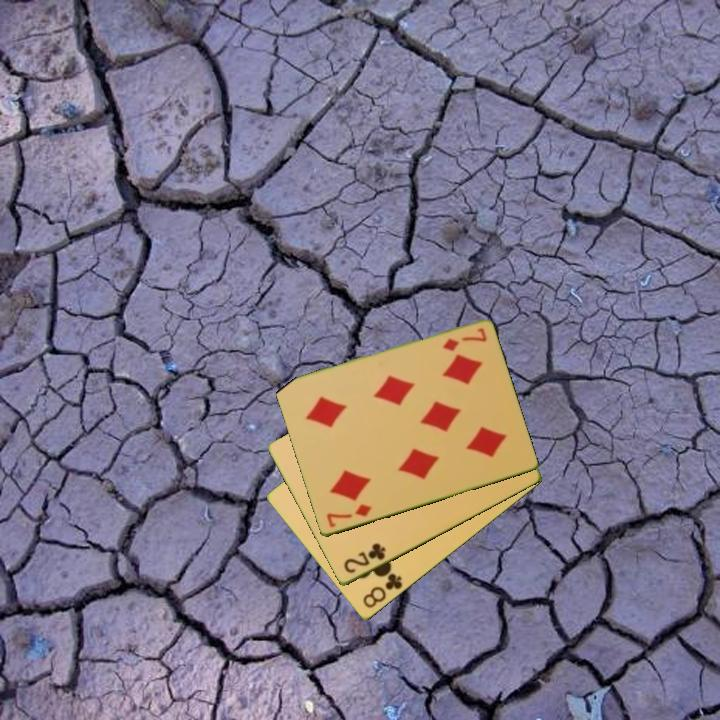2c: (340, 540, 389, 577)
7d: (323, 501, 374, 531), (439, 325, 489, 354)
8c: (359, 570, 405, 612)
